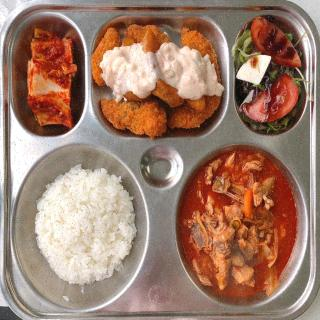Nasi: (37, 166, 138, 277)
